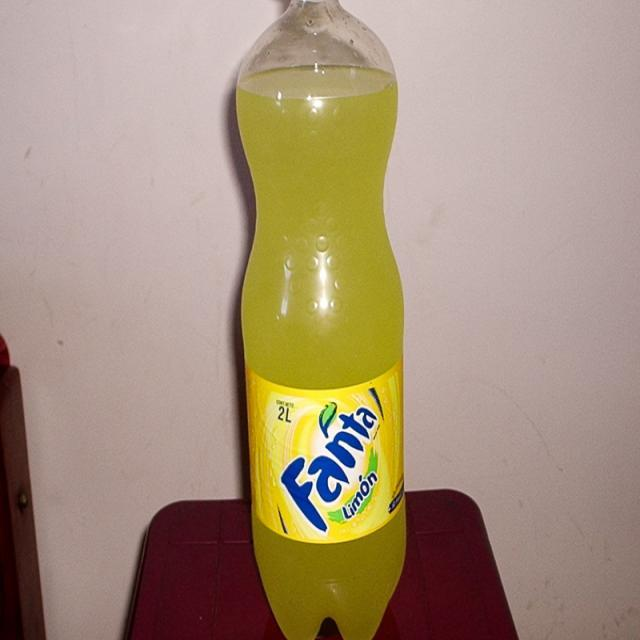Fanta: (230, 3, 412, 640)
